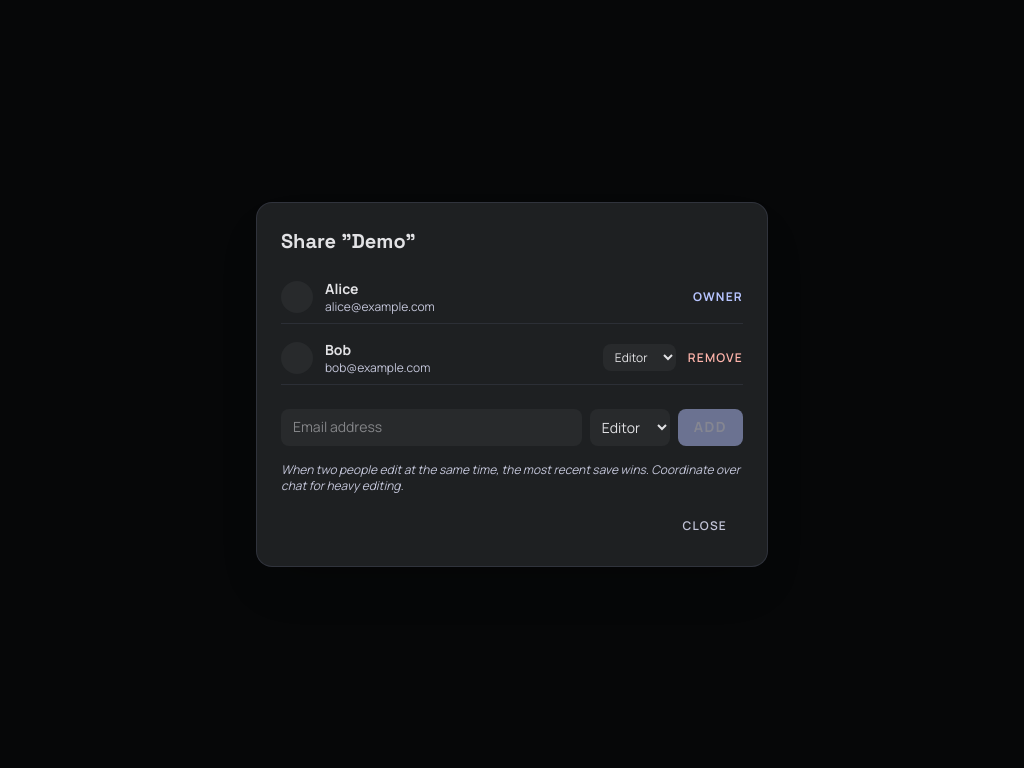
Test case: ShareDialog › shows error when email is not found
Step 1. Type "nobody@example.com" into the field with placeholder "Email address" → (431, 427), box x1=281 y1=408 x2=582 y2=446
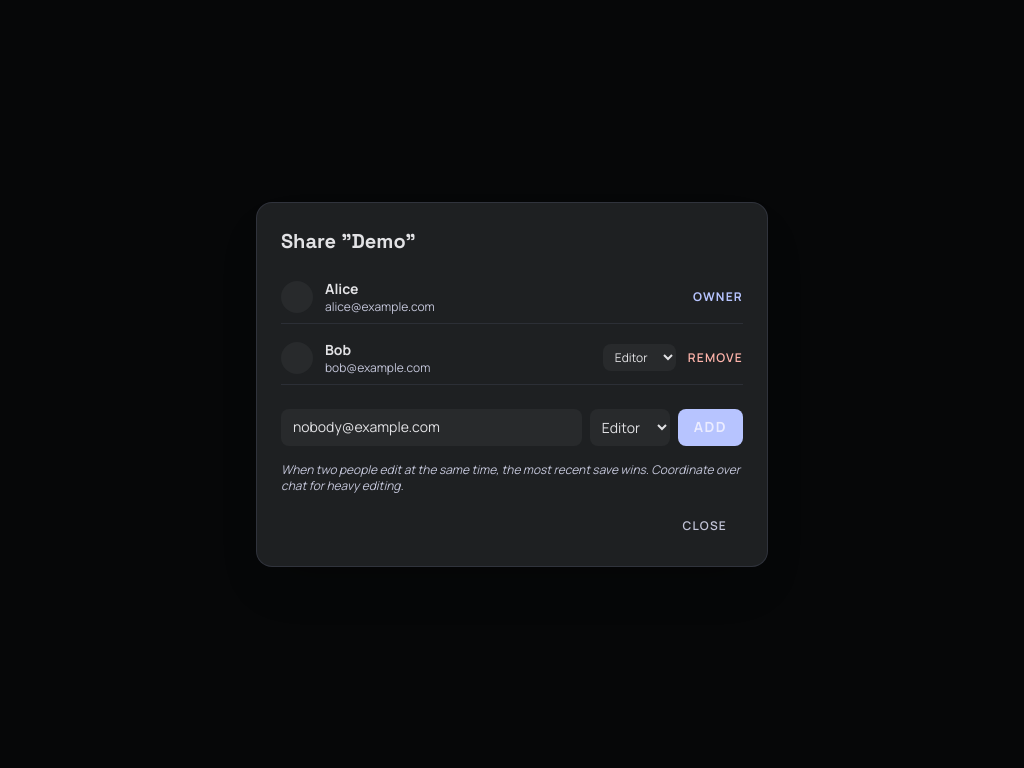
Step 2. Click the button "Add" → (710, 427), box x1=678 y1=408 x2=743 y2=446
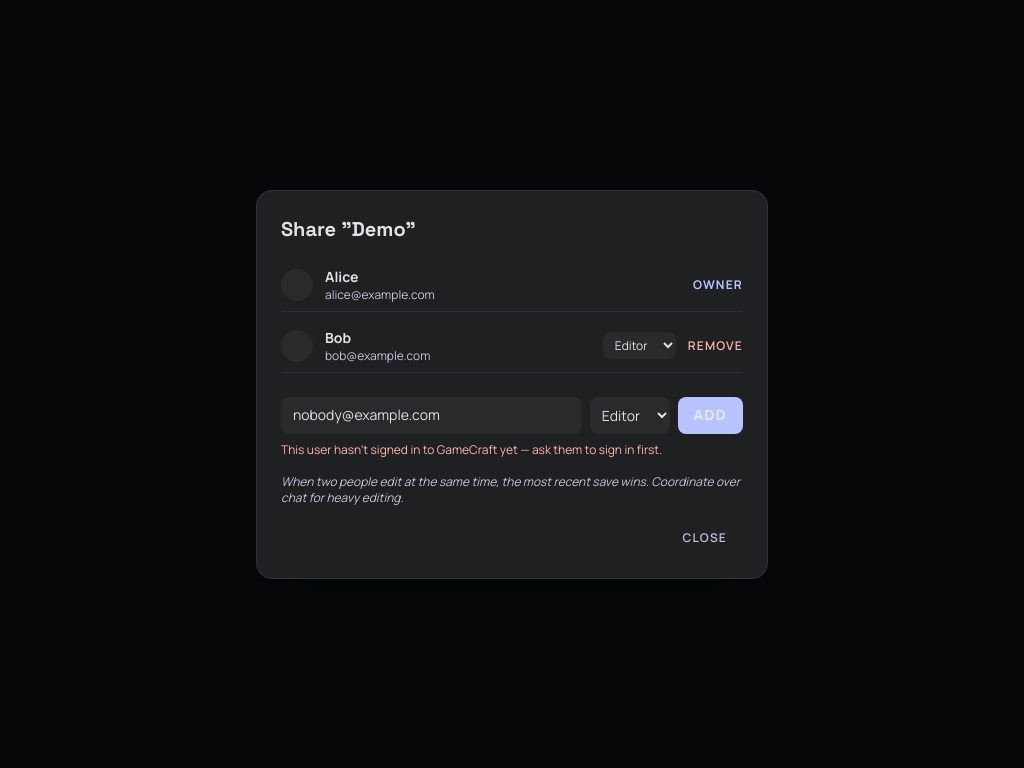
Expected: the text "hasn't signed in to GameCraft" is shown, x1=281 y1=440 x2=662 y2=458
